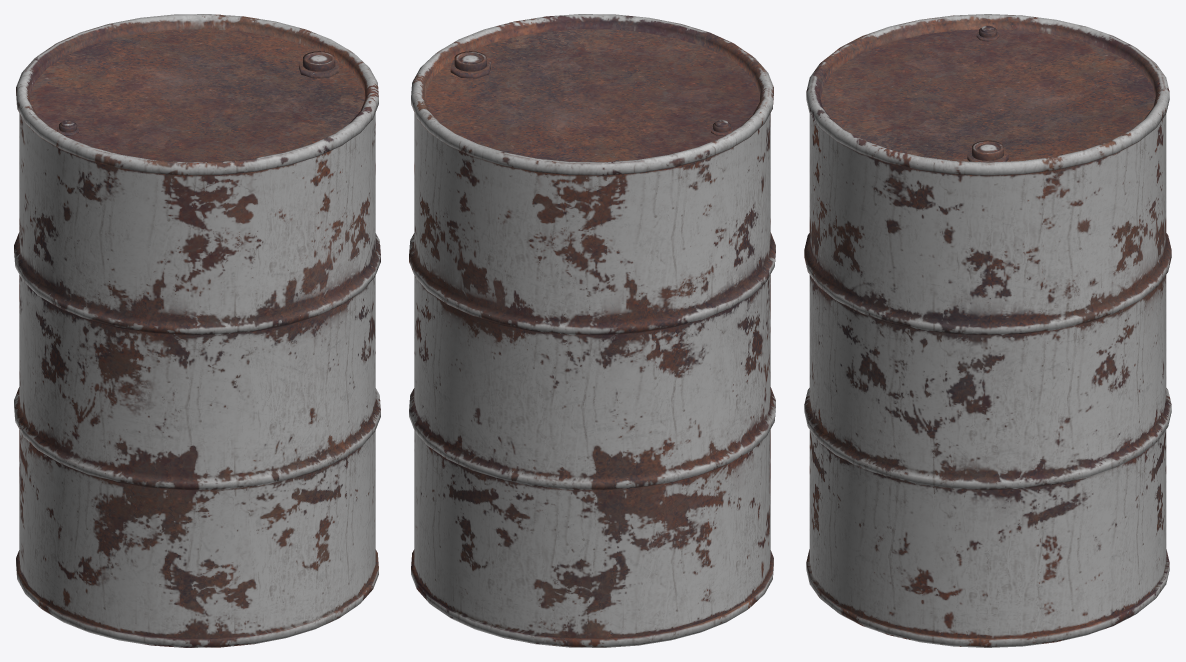
The model's file is SM_barrel.fbx.
3 views of the same model, side by side, from view 1: azimuth 30°, elevation 25°; view 2: azimuth 150°, elevation 25°; view 3: azimuth 270°, elevation 25° (orthographic).
Visible parts, largest first — view 1: SM_barrel_LOD0; view 2: SM_barrel_LOD0; view 3: SM_barrel_LOD0.
Part boxes in pixels (box(x1,y1,x2,y2)): SM_barrel_LOD0: box(14, 14, 380, 647); SM_barrel_LOD0: box(409, 14, 775, 647); SM_barrel_LOD0: box(804, 14, 1171, 647).
Bounding box in the file's own units: 69.75 × 69.75 × 102.
